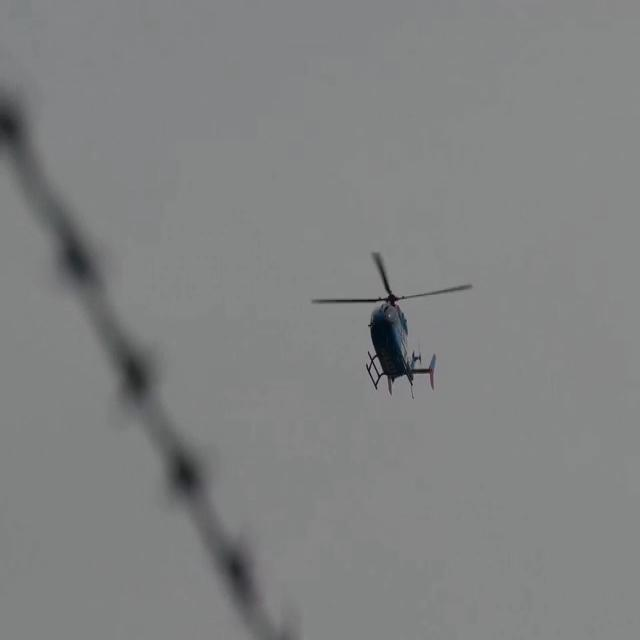Helicopter: (314, 245, 470, 410)
